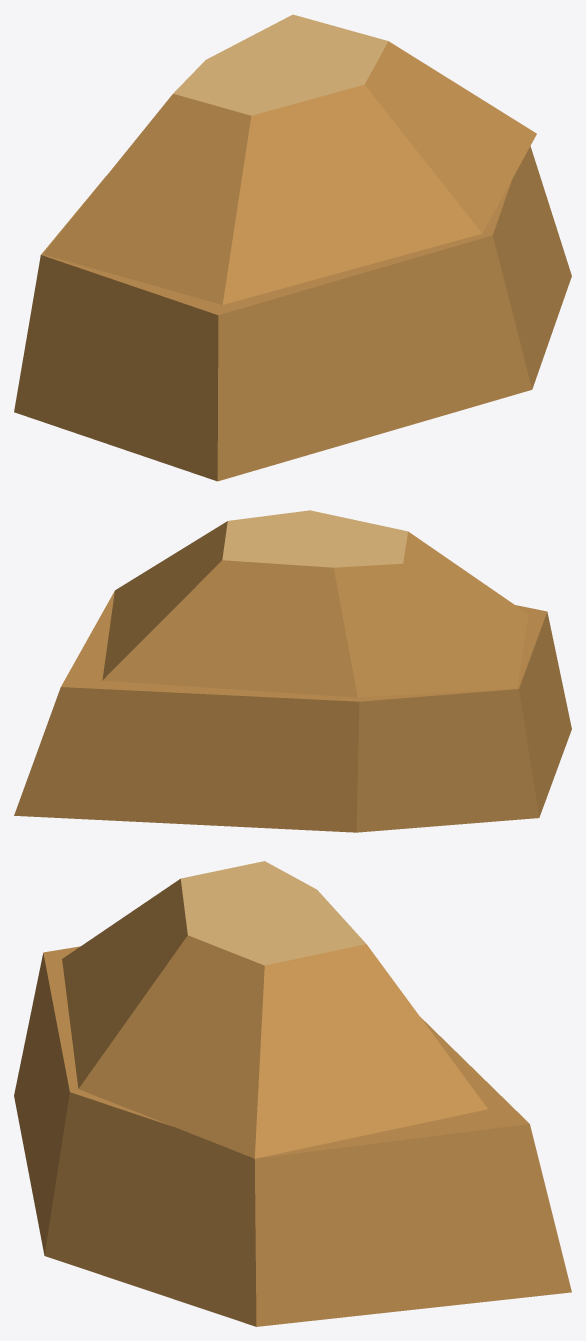
File: rock_pebble.glb
3 renders of one model, top to bottom at view 1: azimuth 30°, elevation 25°; view 2: azimuth 150°, elevation 25°; view 3: azimuth 270°, elevation 25°, orthographic. The views are drawn at different scales.
Visible parts, largest first — view 1: rock_pebble; view 2: rock_pebble; view 3: rock_pebble.
Part boxes in pixels (x1=…): rock_pebble: x1=14, y1=14, x2=571, y2=481; rock_pebble: x1=14, y1=510, x2=571, y2=832; rock_pebble: x1=14, y1=861, x2=571, y2=1326.
Bounding box in the file's own units: 0.2118 × 0.1 × 0.1844.
